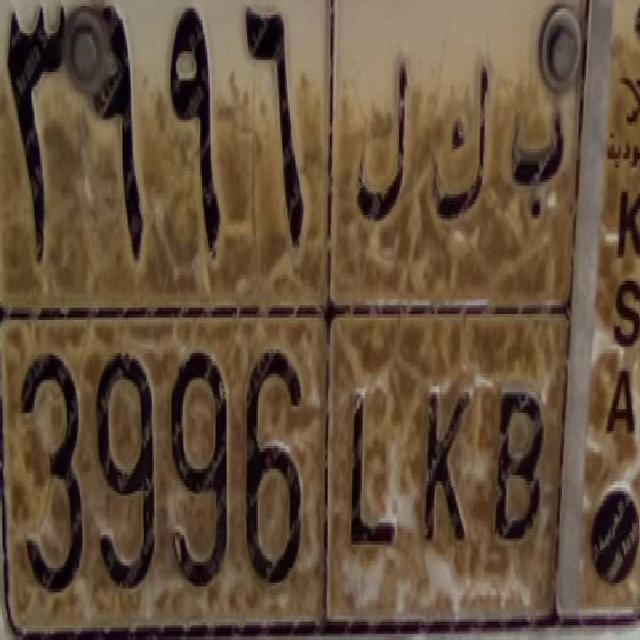license_plate: (0, 299, 559, 640)
